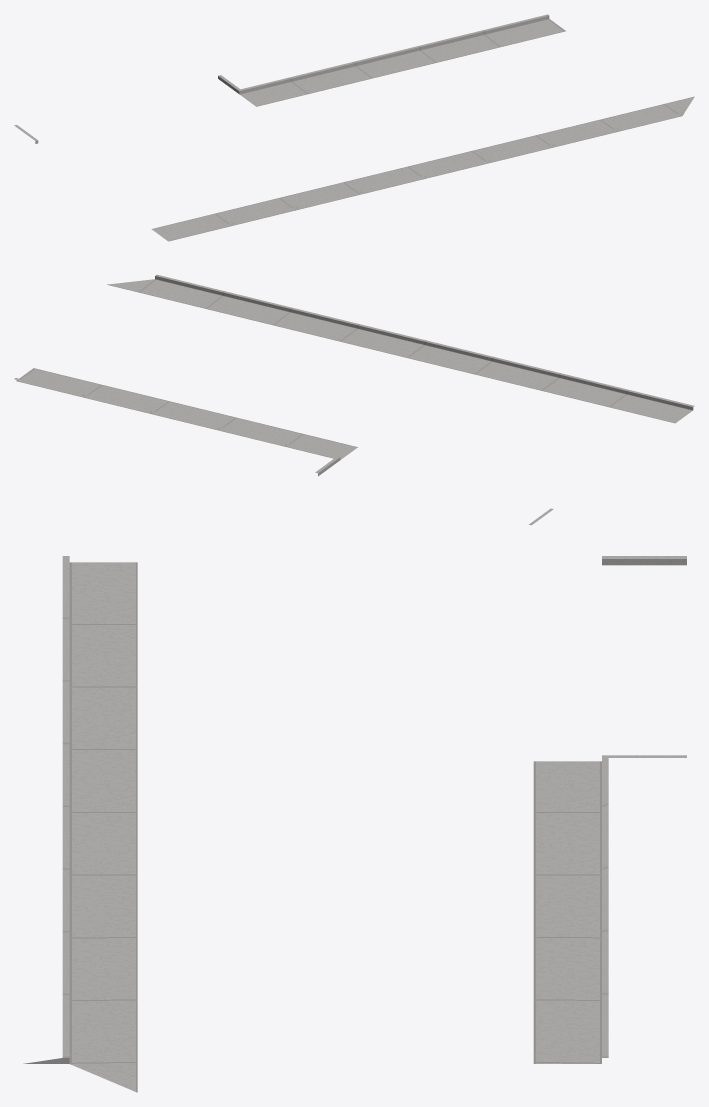
File: kd_stage_135d18_3_12.glb
The picture shows the model from 3 angles, top to bottom: view 1: azimuth 30°, elevation 25°; view 2: azimuth 150°, elevation 25°; view 3: azimuth 270°, elevation 25°; orthographic projection. The views are drawn at different scales.
Parts seen in each view (by area): view 1: kd_stage_135d18_3_12; view 2: kd_stage_135d18_3_12; view 3: kd_stage_135d18_3_12.
Part boxes in pixels (left/top/right/bottom): kd_stage_135d18_3_12: left=14, top=14, right=694, bottom=241; kd_stage_135d18_3_12: left=14, top=274, right=694, bottom=525; kd_stage_135d18_3_12: left=23, top=556, right=686, bottom=1092.
Bounding box in the file's own units: 9.2 × 0.05 × 4.88.
Materials: 1 (1 with a texture image).
